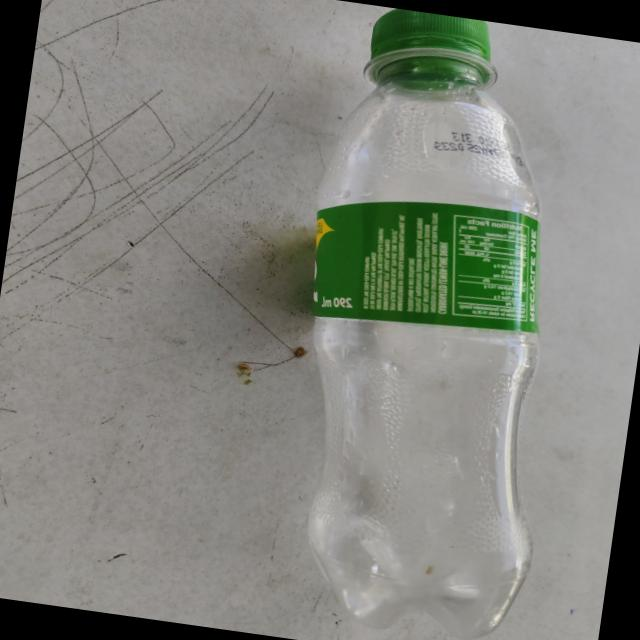Bottle: (309, 8, 541, 639)
